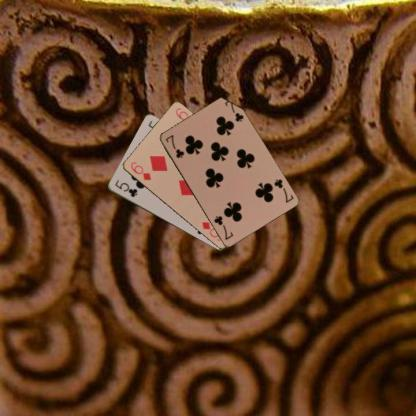5c: (112, 178, 138, 198)
6d: (128, 160, 152, 182)
7c: (162, 132, 186, 160), (271, 176, 295, 204)
